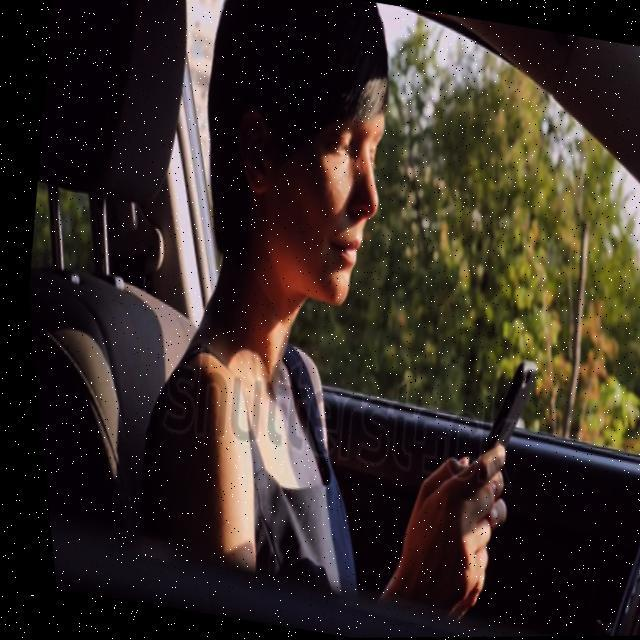PhoneCall: (459, 354, 539, 482)
